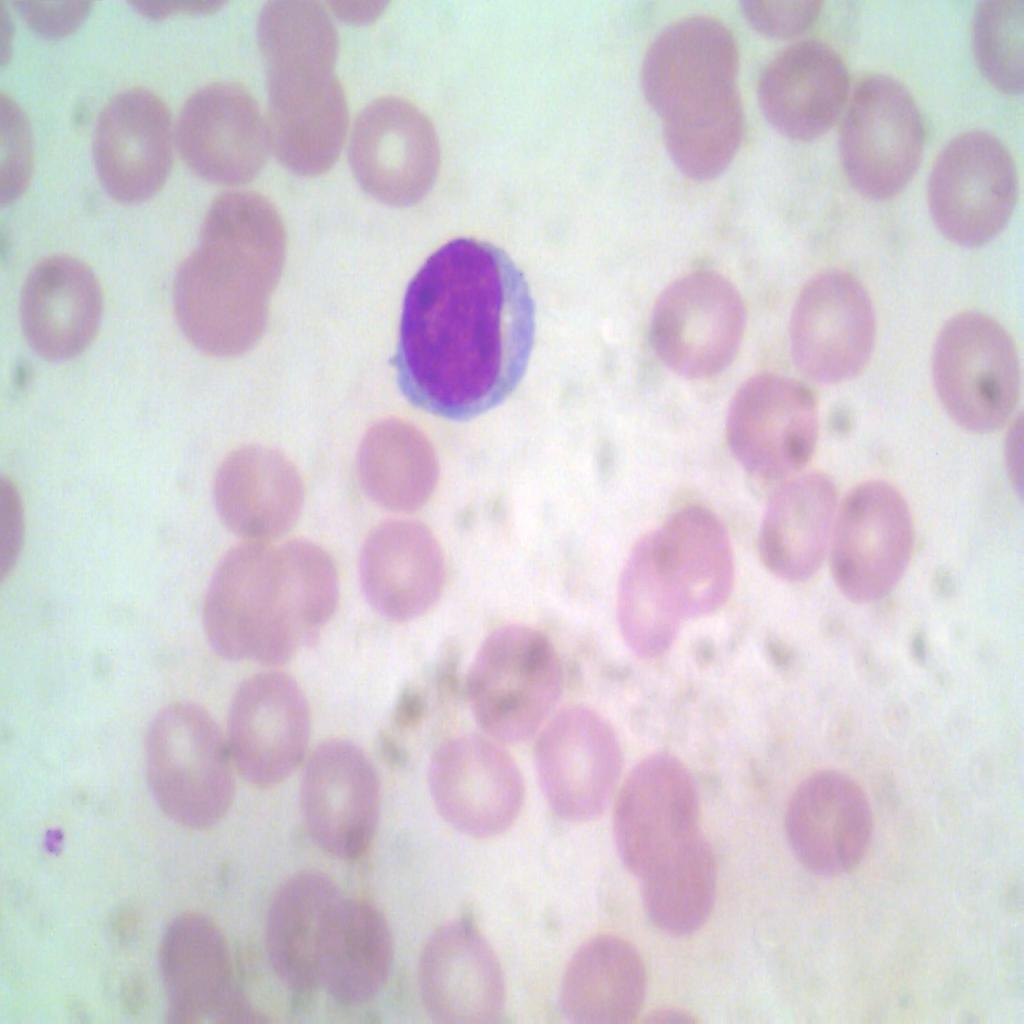Eritrosit: (924, 308, 1023, 441), (919, 118, 1023, 244), (604, 737, 694, 879), (134, 704, 238, 826), (818, 468, 912, 601), (433, 724, 531, 851), (529, 696, 624, 824), (723, 358, 822, 479), (643, 271, 751, 379), (193, 178, 291, 296), (834, 78, 930, 197), (342, 90, 444, 200), (86, 87, 180, 205), (742, 461, 846, 567), (466, 618, 562, 732), (176, 254, 275, 364), (295, 732, 386, 850), (11, 245, 109, 354), (224, 664, 306, 794), (791, 269, 884, 381), (654, 504, 746, 614), (206, 445, 310, 541), (352, 514, 446, 619), (666, 89, 758, 195), (638, 11, 734, 111), (604, 531, 678, 660), (762, 28, 846, 141), (788, 771, 878, 872), (270, 74, 346, 192), (308, 904, 394, 1007), (550, 930, 644, 1023), (355, 411, 439, 511), (258, 539, 342, 638), (426, 922, 508, 1023), (174, 85, 263, 178), (192, 541, 270, 647), (640, 832, 718, 934), (159, 904, 231, 1014), (266, 867, 336, 977), (258, 0, 338, 92)
Limfosit: (380, 222, 542, 424)
Platelet: (26, 812, 66, 858)
